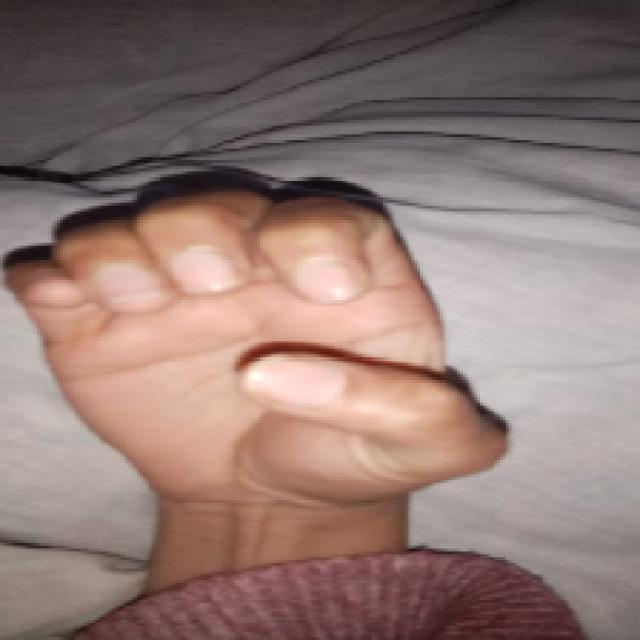Nail: (244, 358, 346, 406), (296, 258, 359, 304), (171, 248, 236, 292), (92, 261, 160, 300), (37, 281, 81, 305)
